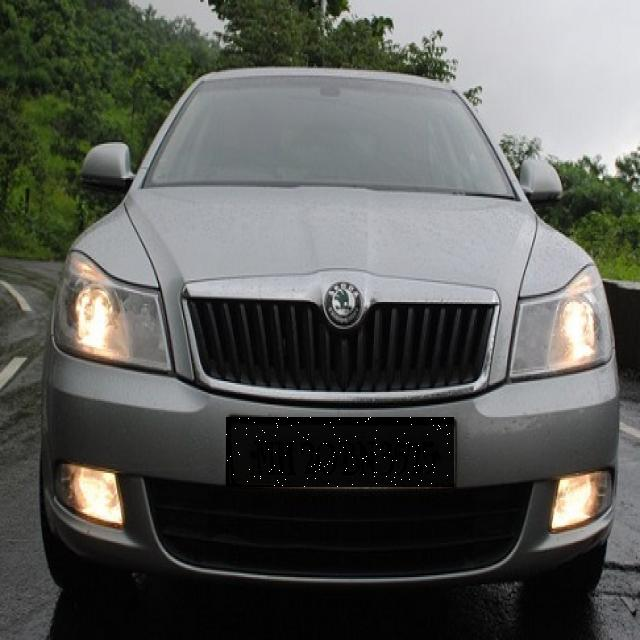Plate: (228, 418, 456, 488)
